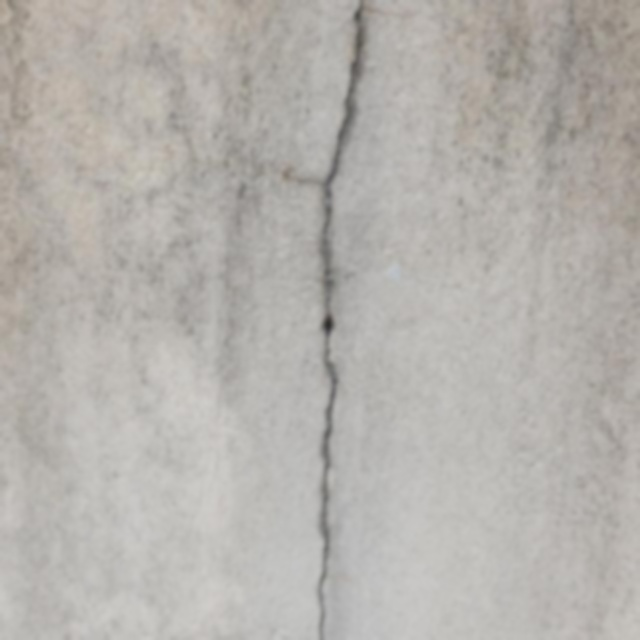SurfaceCrack: (258, 0, 410, 639)
